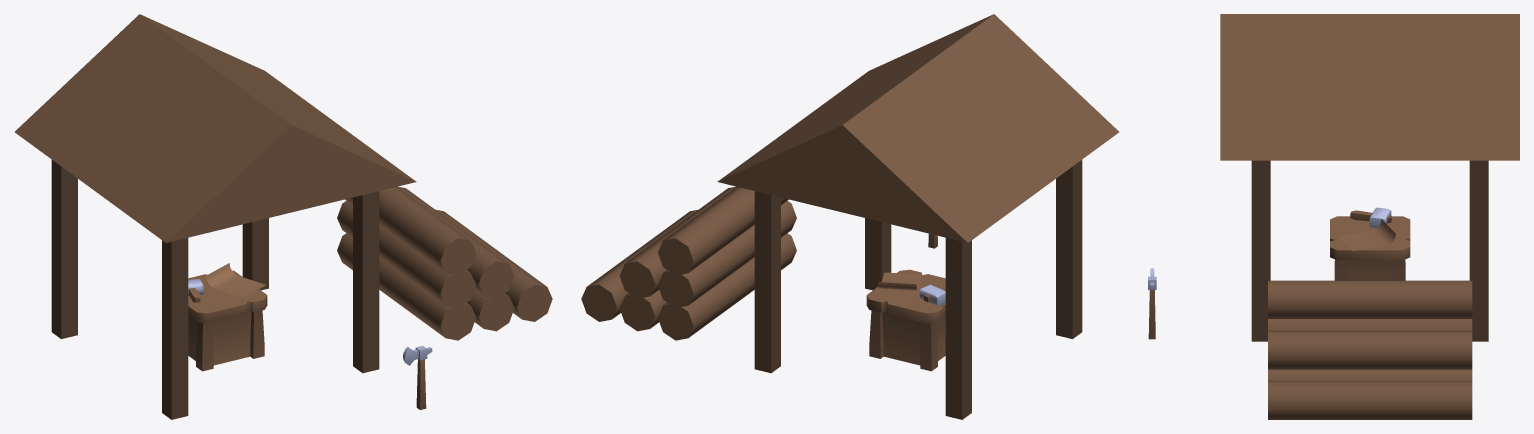
Rendered from facility-lumber.glb.
3 renders of one model, left to right at view 1: azimuth 30°, elevation 25°; view 2: azimuth 150°, elevation 25°; view 3: azimuth 270°, elevation 25°, orthographic.
Parts seen in each view (by area): view 1: Original gable, Original log (×6), Original box (×4), workbench, paper, tool-axe; view 2: Original gable, Original log (×6), Original box (×4), workbench, paper; view 3: Original gable, Original log (×5), Original box (×2), workbench, paper, hammer, tool-axe.
Part boxes in pixels (x1,y1,x2,y2): Original gable: (14, 14, 416, 242); Original log (×6): (337, 186, 552, 340); Original box (×4): (51, 160, 379, 419); workbench: (188, 270, 267, 371); paper: (206, 263, 265, 297); tool-axe: (403, 346, 432, 409); Original gable: (717, 14, 1119, 242); Original log (×6): (581, 186, 796, 340); Original box (×4): (754, 160, 1082, 419); workbench: (866, 269, 945, 371); paper: (878, 272, 922, 290); Original gable: (1220, 14, 1519, 160); Original log (×5): (1268, 280, 1472, 419); Original box (×2): (1251, 160, 1488, 341); workbench: (1330, 216, 1410, 280); paper: (1339, 219, 1395, 251); hammer: (1350, 207, 1391, 227); tool-axe: (1148, 268, 1156, 339).
Size of the model in its own units: 1.72 by 1.13 by 1.37.
Materials: 3 (1 with a texture image).
